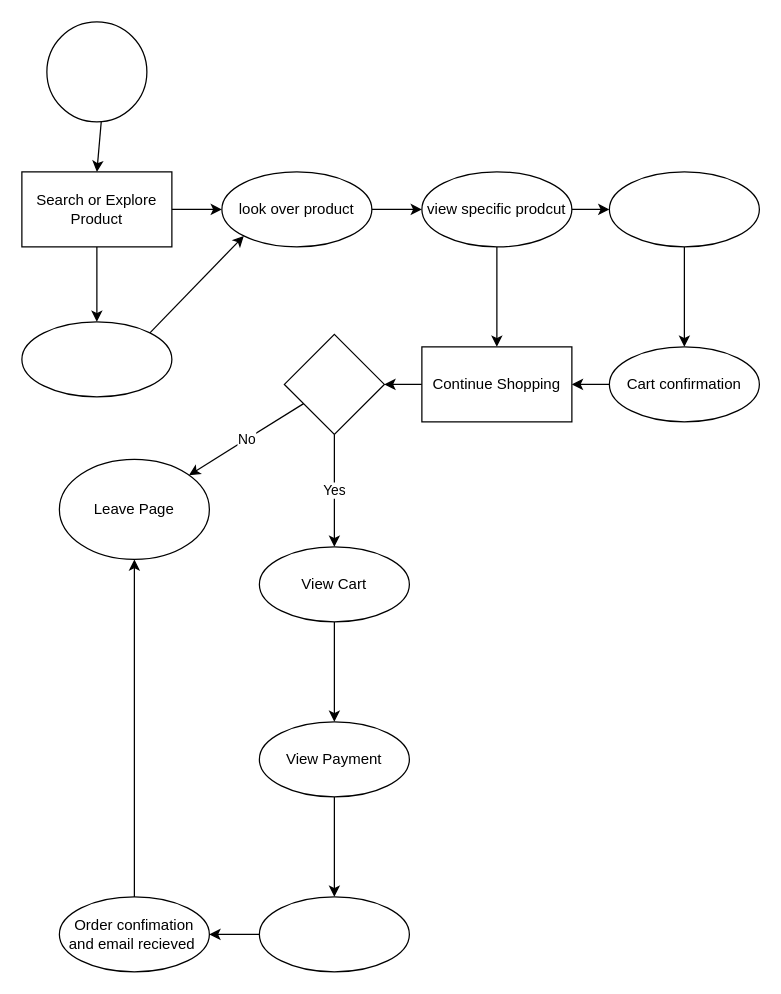
Image size: 781x994. Some labels were removed from this diagram. Here are the shapes that lost their labels. From the top down, the centre of each, then its label:
point 96,71: Enter Website
point 683,209: Add to cart
point 96,359: Search for Product
point 333,383: Checkout Yes or No?
point 333,934: Give Payment Information
